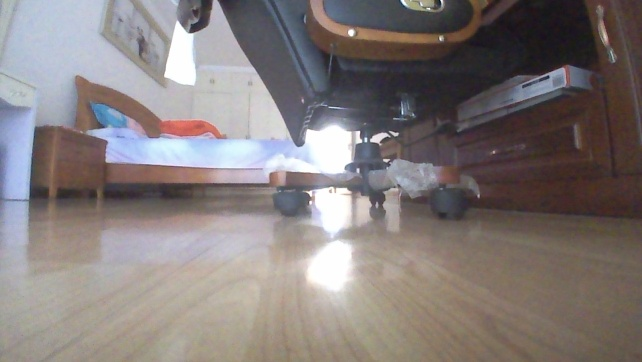bed: (70, 73, 314, 195)
cabinet: (30, 125, 109, 202)
